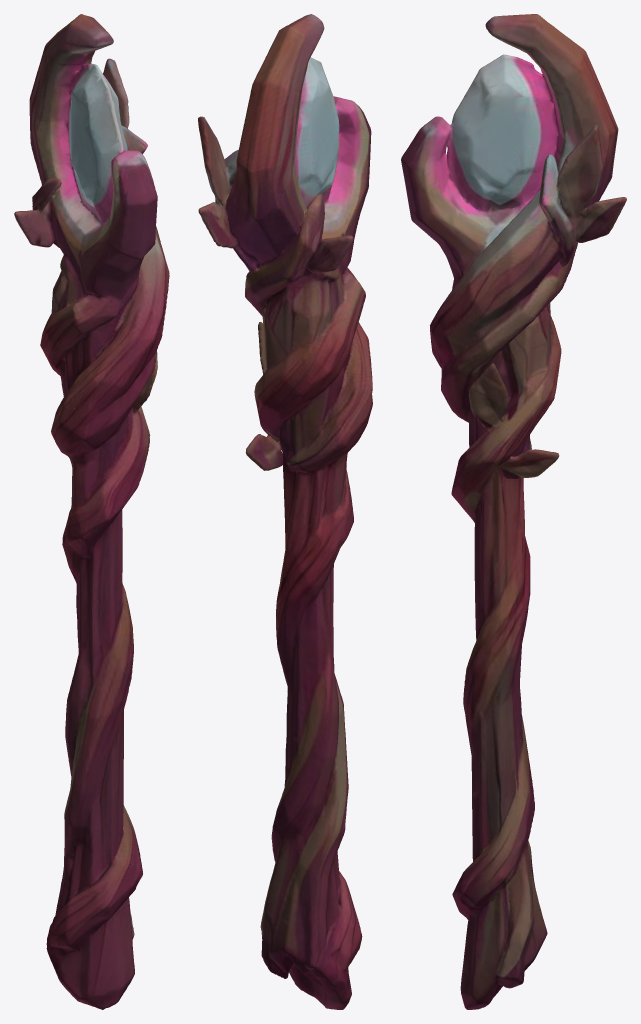
The model's file is w_moonstaff.glb.
The picture shows the model from 3 angles, left to right: view 1: azimuth 30°, elevation 25°; view 2: azimuth 150°, elevation 25°; view 3: azimuth 270°, elevation 25°; orthographic projection. The views are drawn at different scales.
Visible parts, largest first — view 1: tripo_node_a8e983cc-165d-4d20-b23b-8362f5dfd755; view 2: tripo_node_a8e983cc-165d-4d20-b23b-8362f5dfd755; view 3: tripo_node_a8e983cc-165d-4d20-b23b-8362f5dfd755.
Part boxes in pixels (box(x1,y1,x2,y2)): tripo_node_a8e983cc-165d-4d20-b23b-8362f5dfd755: box(14, 14, 169, 1009); tripo_node_a8e983cc-165d-4d20-b23b-8362f5dfd755: box(198, 14, 372, 1009); tripo_node_a8e983cc-165d-4d20-b23b-8362f5dfd755: box(401, 14, 626, 1009).
Size of the model in its own units: 0.144 by 1 by 0.2047.
Materials: 1 (1 with a texture image).
